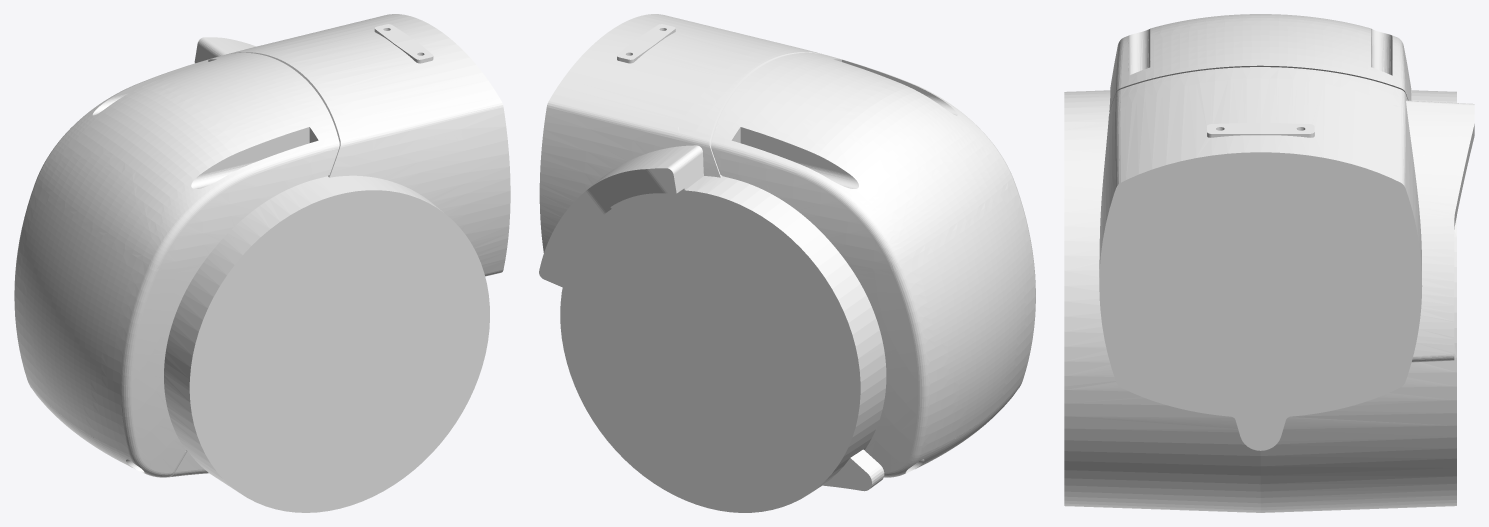
The picture shows the model from 3 angles, left to right: view 1: azimuth 30°, elevation 25°; view 2: azimuth 150°, elevation 25°; view 3: azimuth 270°, elevation 25°; orthographic projection. The views are drawn at different scales.
Parts seen in each view (by area): view 1: RV-7F_ELBOW_04; view 2: RV-7F_ELBOW_04; view 3: RV-7F_ELBOW_04.
Part boxes in pixels (left/top/right/bottom): RV-7F_ELBOW_04: left=14, top=14, right=510, bottom=512; RV-7F_ELBOW_04: left=539, top=14, right=1035, bottom=512; RV-7F_ELBOW_04: left=1064, top=14, right=1474, bottom=512.
Size of the model in its own units: 0.1968 by 0.1525 by 0.1845.
Materials: 1 (1 with a texture image).
